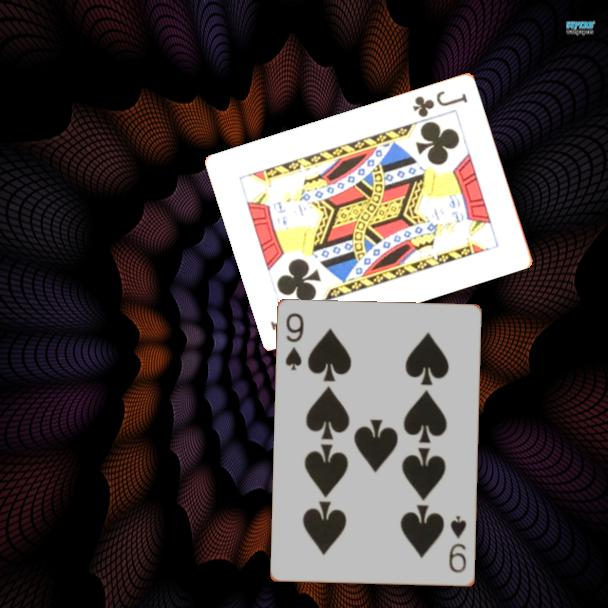c11: (409, 87, 471, 120)
s09: (282, 310, 307, 373), (446, 512, 470, 576)
